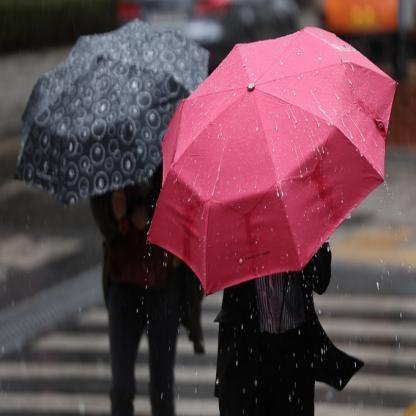Umbrella: (146, 32, 397, 292), (8, 22, 218, 201)
